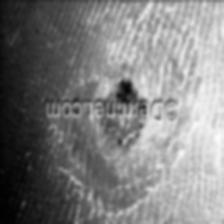Toxin: (96, 120, 149, 156), (100, 76, 146, 102)
